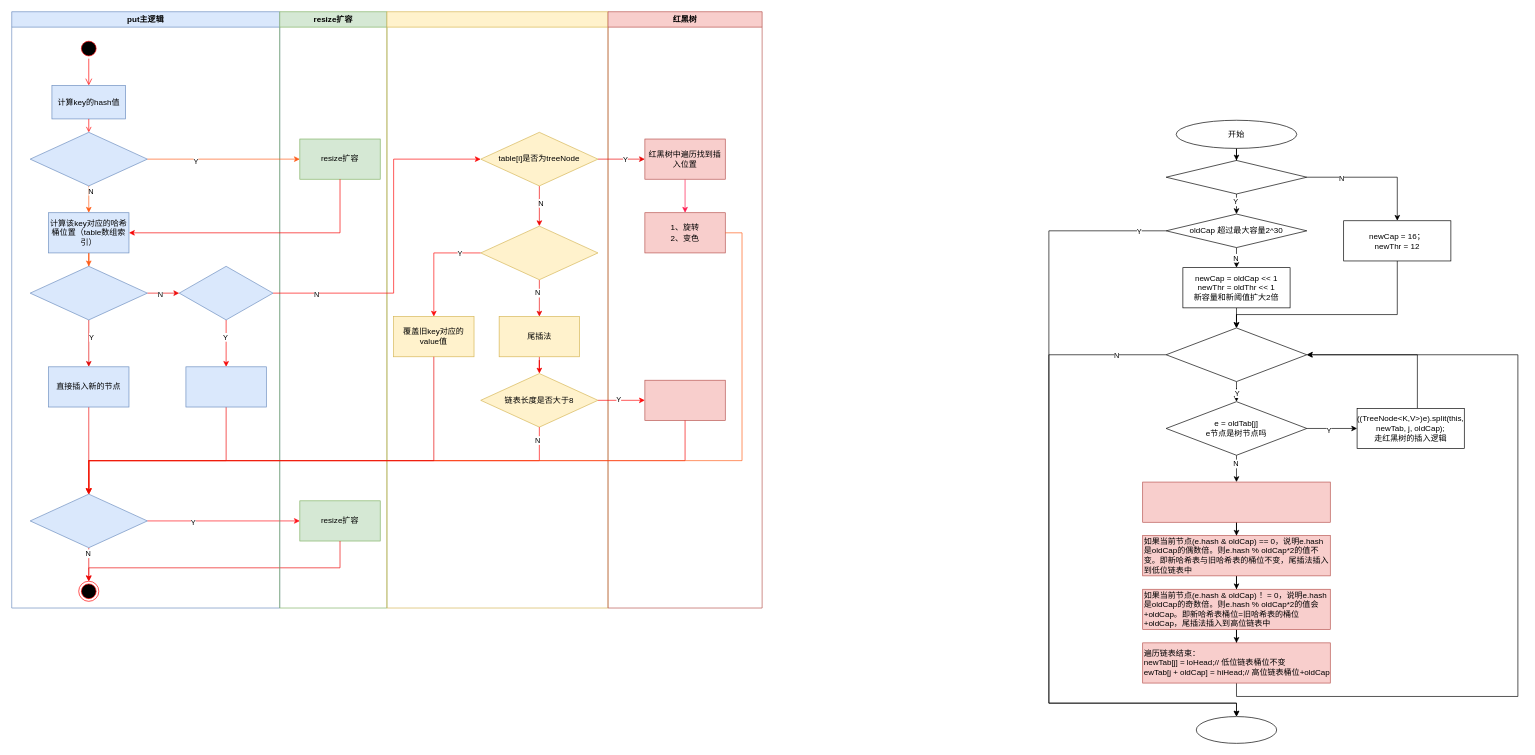
This 1535x755 diagram has some shape labels left out. The box of each missing label's shape, as (x1, y1, x2, y2) in pixels:
j<oldCap (遍历旧哈希表的所有桶): (1165, 327, 1307, 382)
oldcap>0: (1165, 160, 1307, 194)
table[i]==null: (29, 266, 147, 320)
哈希表table是否为空或者 长度 是否为0: (29, 132, 147, 186)
开始遍历链表： 设置两个链表，一个高位链表hiHead，一个低位链表 loHead: (1142, 481, 1330, 522)
当前容量是否触发扩容 ++size > threshold: (29, 493, 147, 548)
桶上的key是否与 当前key一致: (179, 266, 273, 320)
结束: (1196, 716, 1277, 743)
覆盖旧值: (185, 366, 266, 407)
转换为红黑树: (644, 380, 725, 420)
遍历链表是否存在相同的key: (480, 225, 598, 280)
链表: (386, 11, 608, 608)
